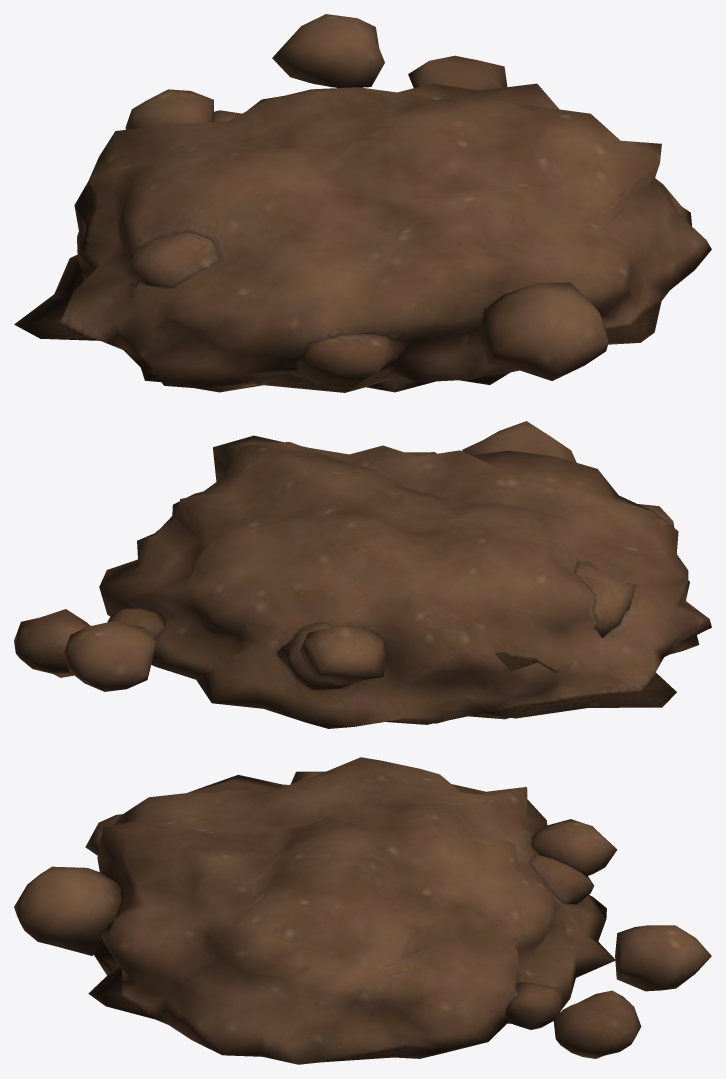
Rendered from dirt_pile.glb.
The picture shows the model from 3 angles, top to bottom: view 1: azimuth 30°, elevation 25°; view 2: azimuth 150°, elevation 25°; view 3: azimuth 270°, elevation 25°; orthographic projection. The views are drawn at different scales.
Visible parts, largest first — view 1: dirt_pile; view 2: dirt_pile; view 3: dirt_pile.
Part boxes in pixels (x1,y1,x2,y2): dirt_pile: (14, 14, 711, 392); dirt_pile: (14, 421, 711, 728); dirt_pile: (14, 757, 711, 1064).
Size of the model in its own units: 1.09 by 0.2731 by 1.2.
1 material, 1 textured.
